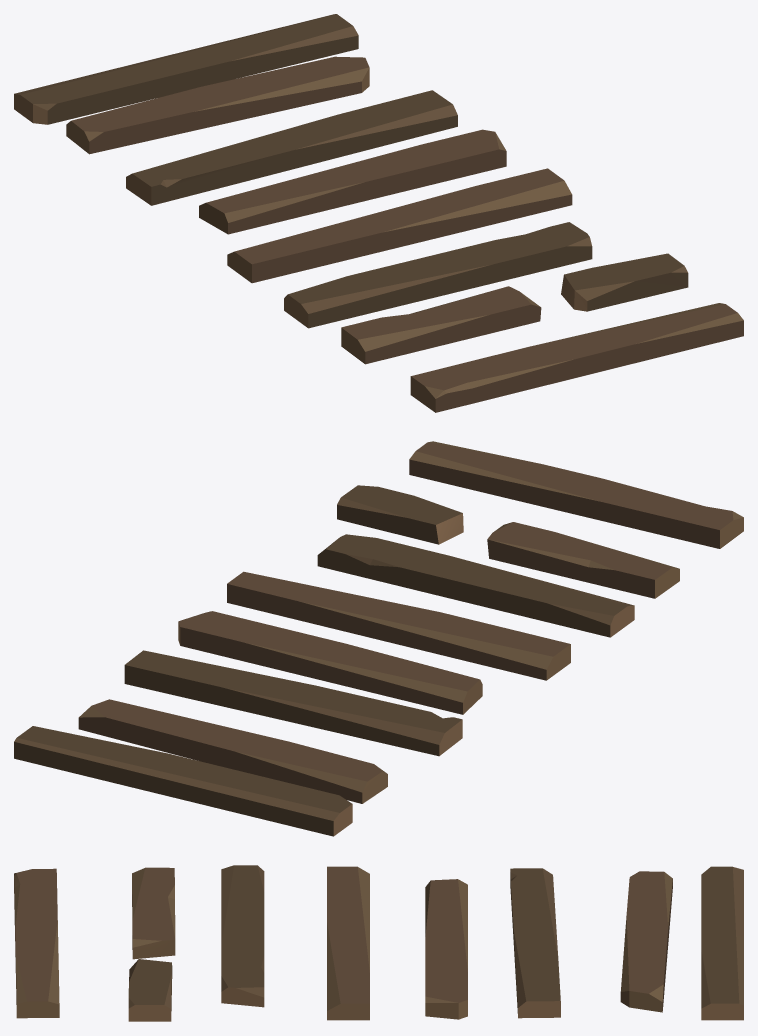
Rendered from 20C_BG_ground_5M.fbx.
The picture shows the model from 3 angles, top to bottom: view 1: azimuth 30°, elevation 25°; view 2: azimuth 150°, elevation 25°; view 3: azimuth 270°, elevation 25°; orthographic projection. The views are drawn at different scales.
Visible parts, largest first — view 1: 20C_BG_ground_5M; view 2: 20C_BG_ground_5M; view 3: 20C_BG_ground_5M.
Part boxes in pixels (left/top/right/bottom): 20C_BG_ground_5M: left=14, top=14, right=743, bottom=412; 20C_BG_ground_5M: left=14, top=441, right=743, bottom=836; 20C_BG_ground_5M: left=14, top=865, right=743, bottom=1021.
Size of the model in its own units: 40.86 by 2.27 by 90.06.
